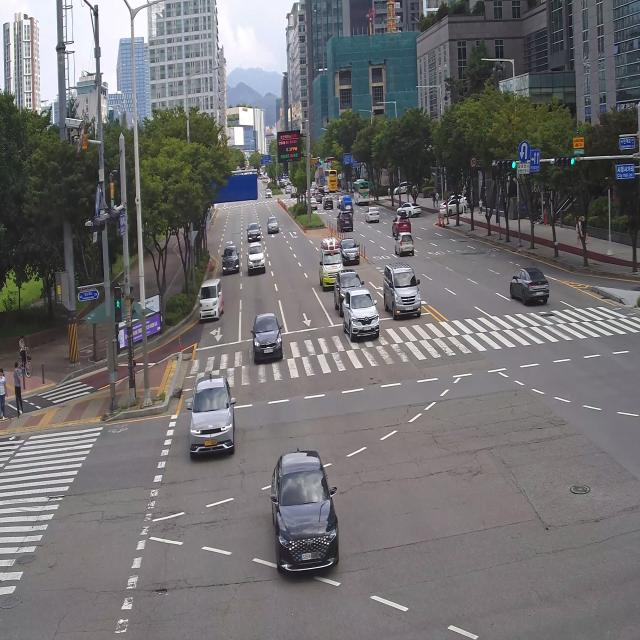Bus: (351, 177, 375, 208), (322, 167, 339, 195)
Car: (269, 447, 344, 588), (186, 363, 242, 476), (499, 240, 553, 317), (379, 256, 428, 326), (336, 274, 381, 348), (246, 292, 286, 370), (193, 266, 228, 327), (315, 231, 344, 293), (241, 242, 275, 278), (219, 239, 241, 280), (332, 211, 359, 244), (389, 206, 412, 238), (393, 229, 416, 258), (244, 219, 264, 247), (364, 204, 384, 228), (267, 208, 278, 239), (265, 183, 274, 204)
